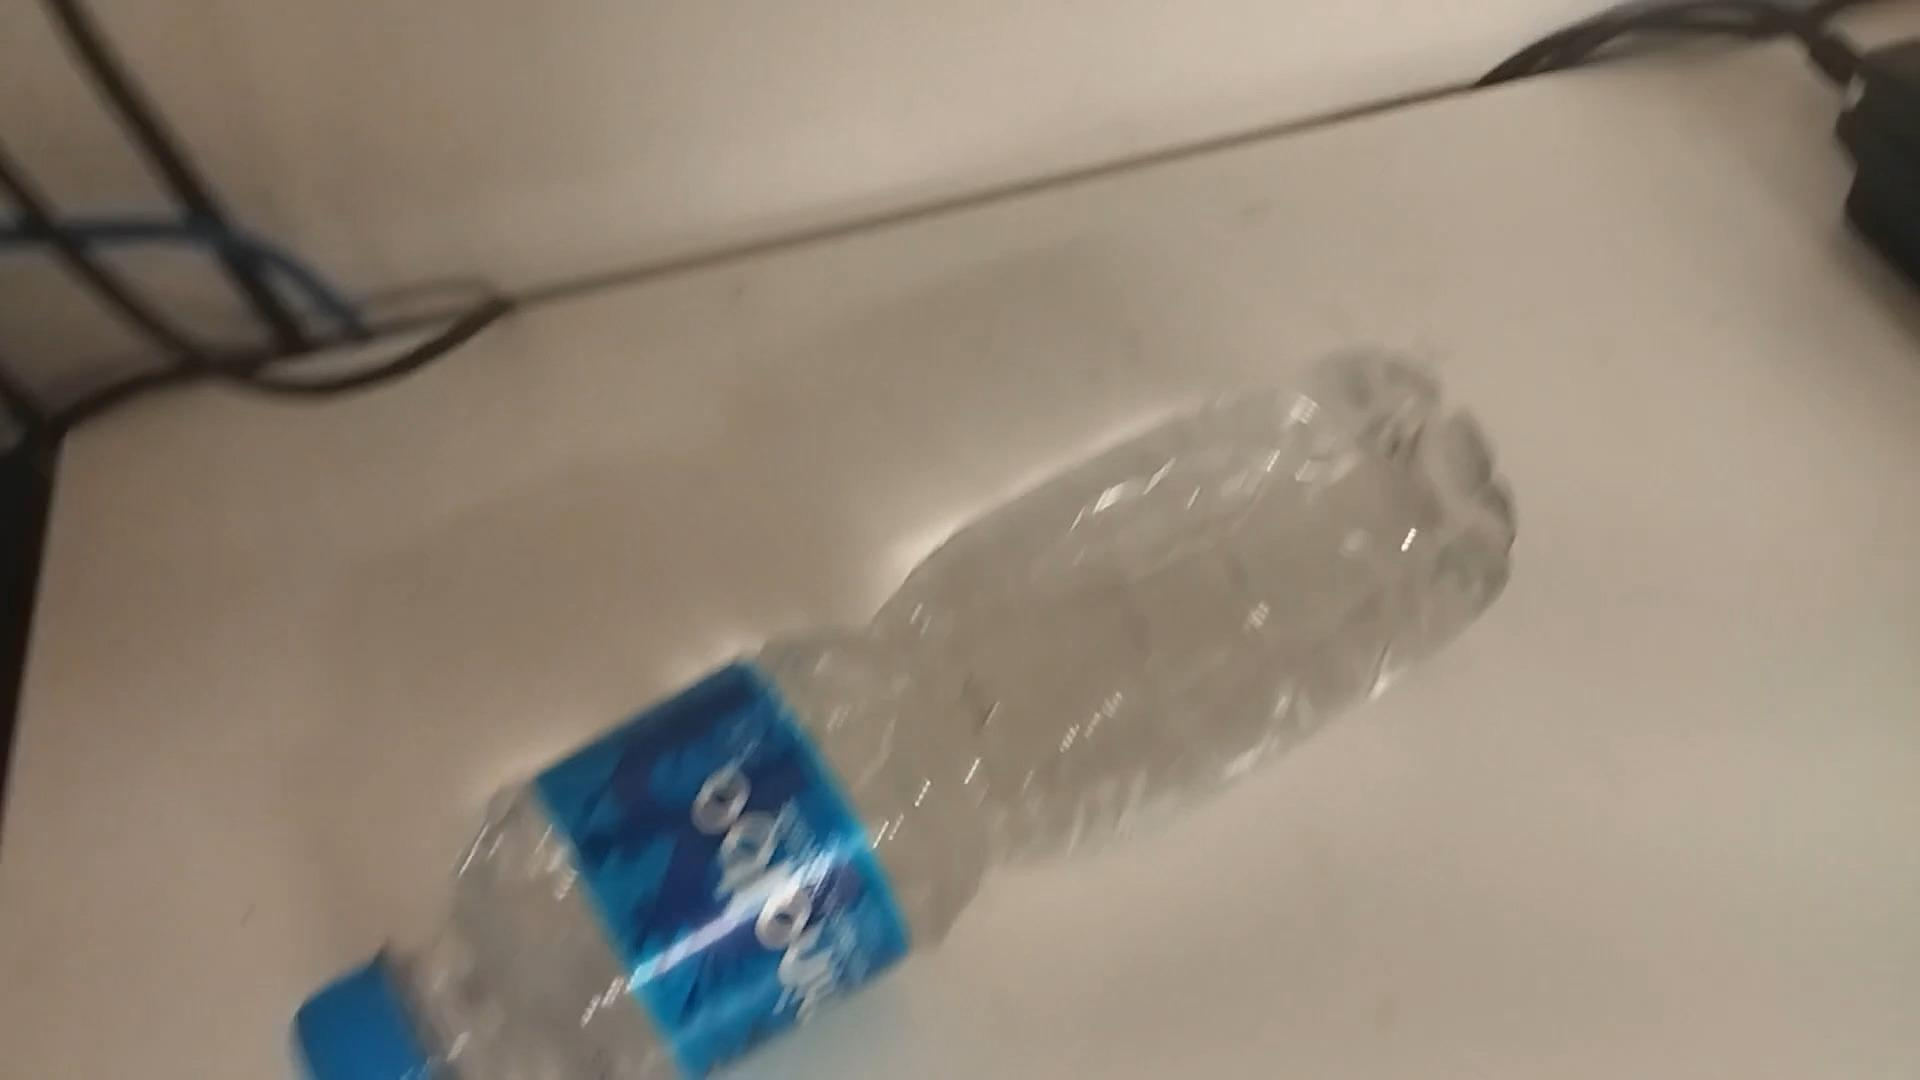agua: (310, 352, 1484, 1075)
